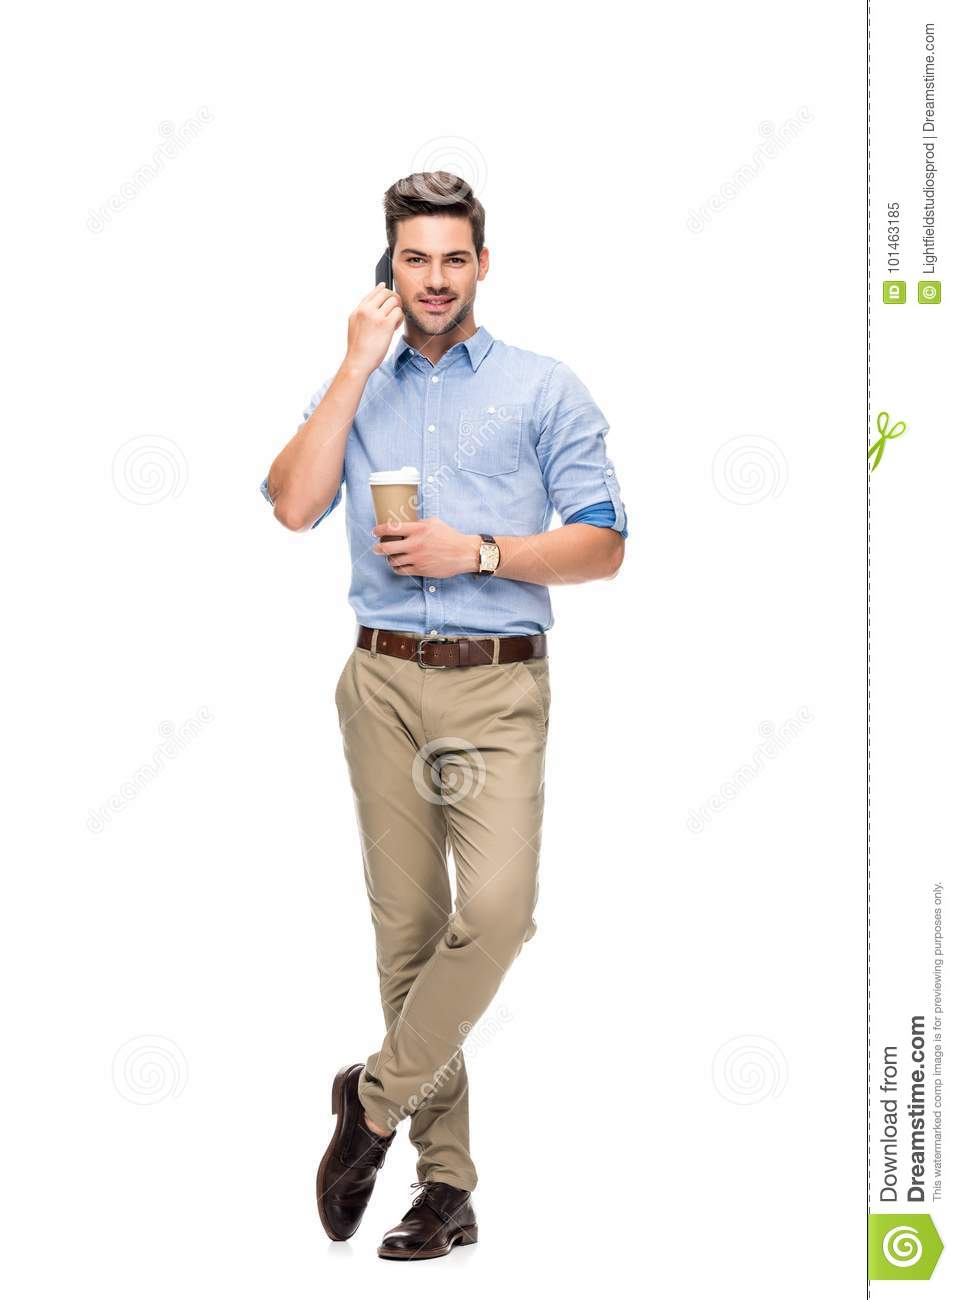phone: (371, 247, 399, 298)
talk: (347, 236, 476, 380)
